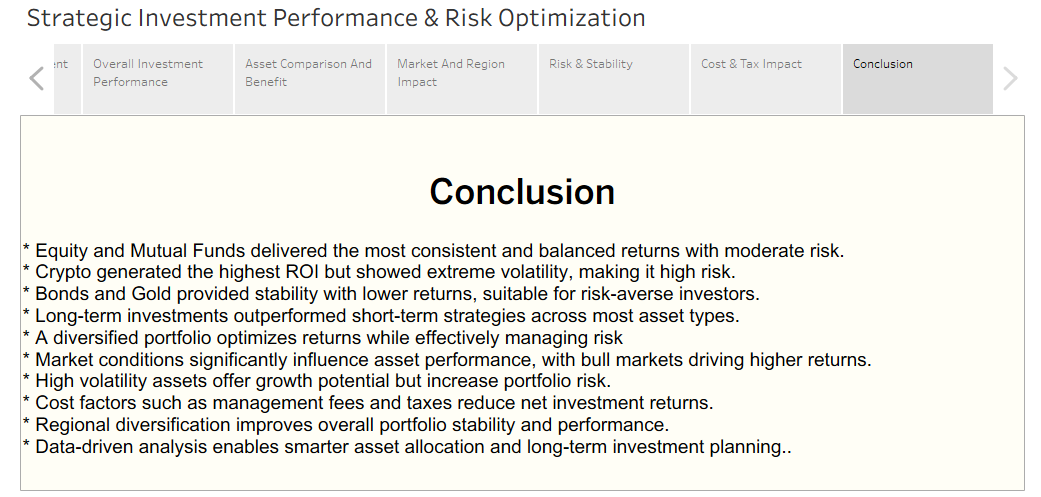

This screenshot's page, from the dashboard's own definition file:
{"tool":"tableau","page":{"name":"Pic","canvas":[1000,1000],"units":"permille","ordinal":5},"visuals":[{"type":"image","param":"F:/Project/Tableau/new/download.jpg","box":[53,105.3,900,861.8]},{"type":"text","box":[79.1,147.4,745.2,161.8]}]}

Visuals, with their boxes on the dashboard's canvas, which has no fixed pixel size, in thousandths of its width and height (x1, y1, x2, y2). These are canvas units, not pixel positions in the 1041x497 screenshot, which may show the page scaled, cropped or inside an application window:
image: Rect(53, 105, 953, 967)
text: Rect(79, 147, 824, 309)
